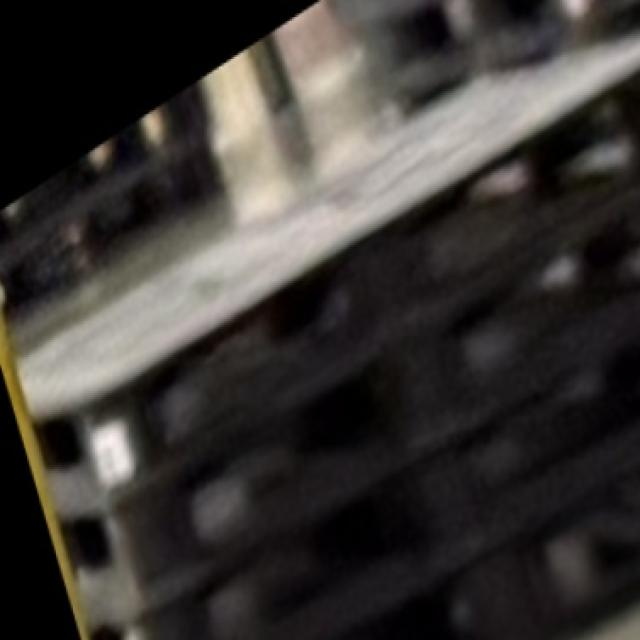igps: (0, 0, 640, 502), (91, 163, 640, 603), (126, 318, 638, 640), (326, 454, 638, 640)
